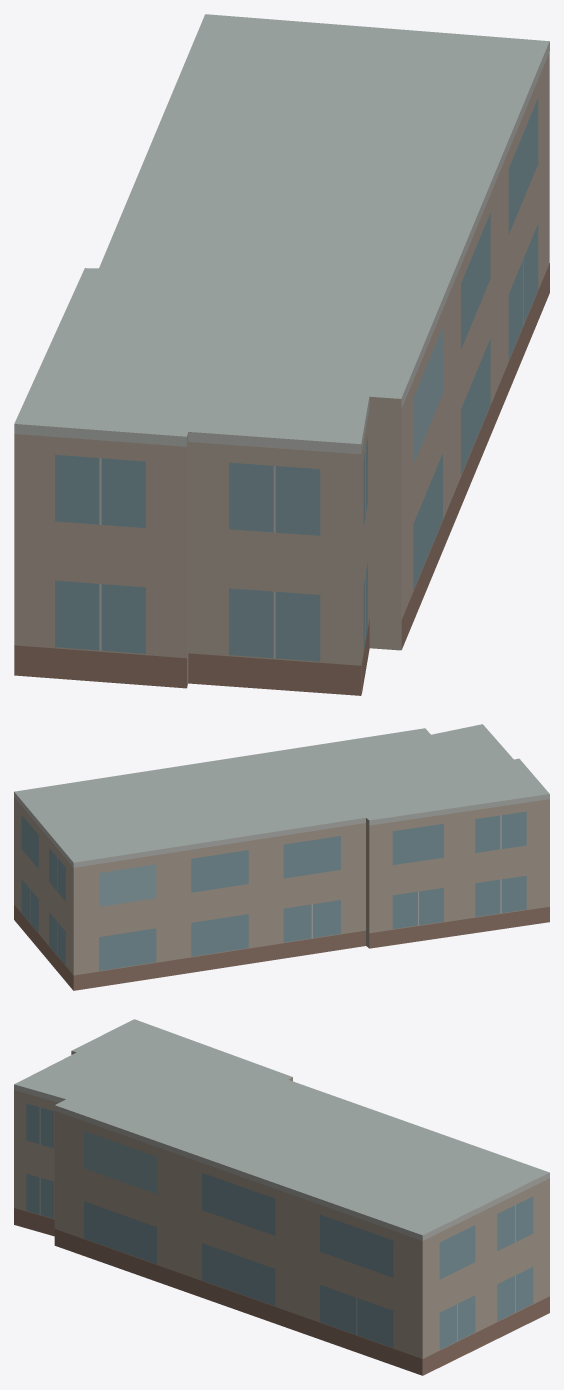
The model's file is survey-upis-32884407.glb.
3 renders of one model, top to bottom at view 1: azimuth 30°, elevation 25°; view 2: azimuth 150°, elevation 25°; view 3: azimuth 270°, elevation 25°, orthographic. The views are drawn at different scales.
Parts seen in each view (by area): view 1: survey-upis-32884407.tmp; view 2: survey-upis-32884407.tmp; view 3: survey-upis-32884407.tmp.
Boxes of the visible parts, <box> form: survey-upis-32884407.tmp: <box>14,14,549,695</box>; survey-upis-32884407.tmp: <box>14,724,549,990</box>; survey-upis-32884407.tmp: <box>14,1019,549,1375</box>.
Size of the model in its own units: 20.15 by 6.1 by 21.1.
